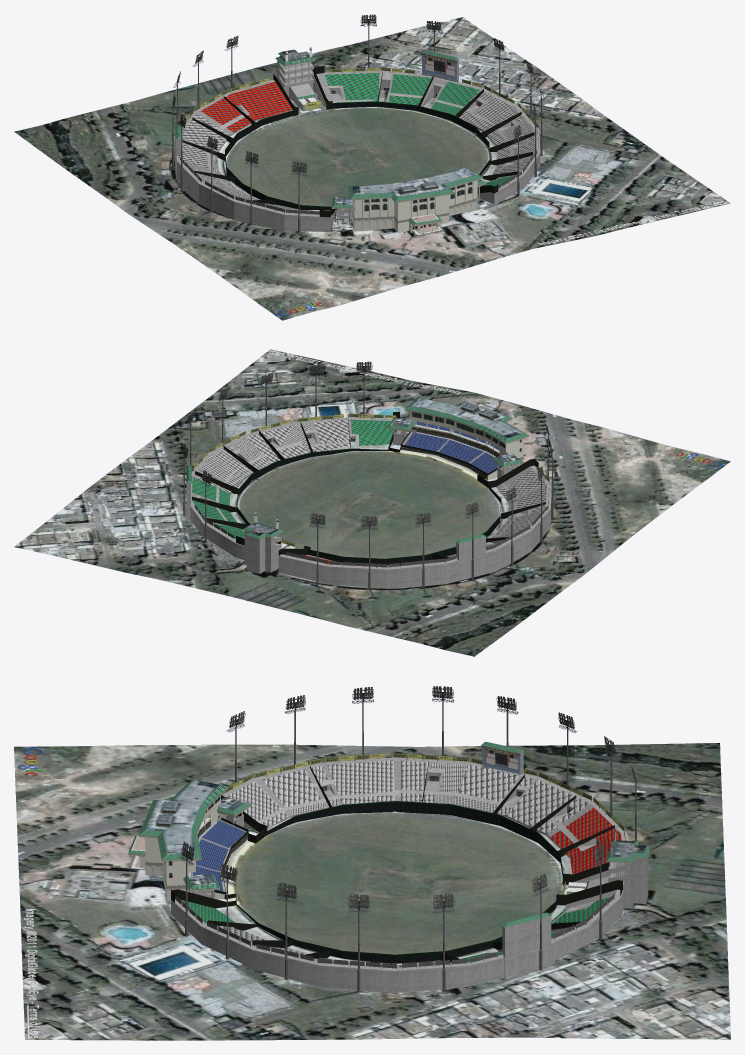
File: Punjab Cricket Association Stadium mohali.fbx
3 views of the same model, one above another, from view 1: azimuth 30°, elevation 25°; view 2: azimuth 150°, elevation 25°; view 3: azimuth 270°, elevation 25° (orthographic). The views are drawn at different scales.
Visible parts, largest first — view 1: FbxMesh (×15); view 2: FbxMesh (×14); view 3: FbxMesh (×17).
Boxes of the visible parts, <box> form: FbxMesh (×15): <box>14,17,730,320</box>; FbxMesh (×14): <box>14,349,730,656</box>; FbxMesh (×17): <box>14,743,730,1040</box>.
Bounding box in the file's own units: 315 × 51.17 × 315.
Materials: 24 (23 with a texture image).
